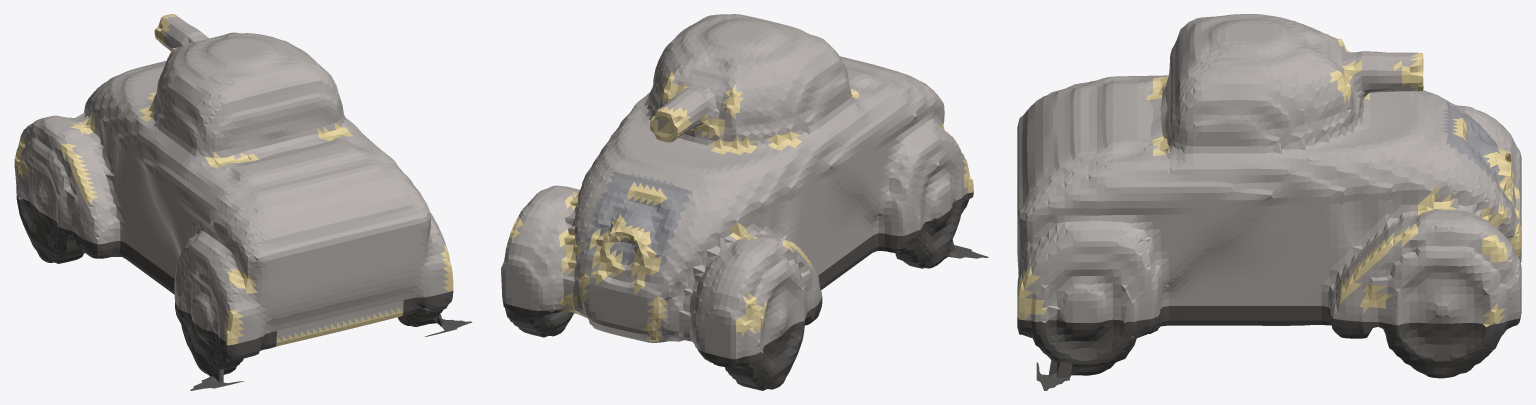
File: unit_glimmer.glb
The picture shows the model from 3 angles, left to right: view 1: azimuth 30°, elevation 25°; view 2: azimuth 150°, elevation 25°; view 3: azimuth 270°, elevation 25°; orthographic projection. The views are drawn at different scales.
Parts seen in each view (by area): view 1: Mesh_0.048; view 2: Mesh_0.048; view 3: Mesh_0.048.
Boxes of the visible parts, x1,y1,x2,y2 form: Mesh_0.048: [14, 14, 472, 390]; Mesh_0.048: [501, 14, 988, 390]; Mesh_0.048: [1017, 14, 1521, 390].
Size of the model in its own units: 2.01 by 1.67 by 2.7.
